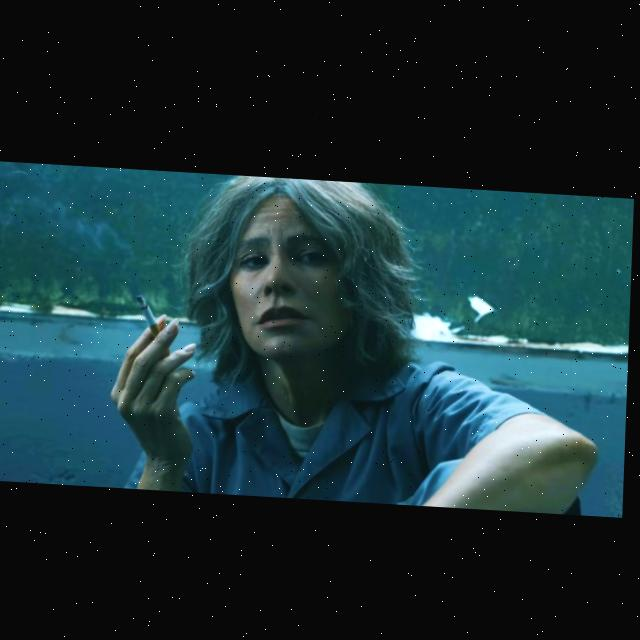cigarette: (136, 291, 164, 336)
